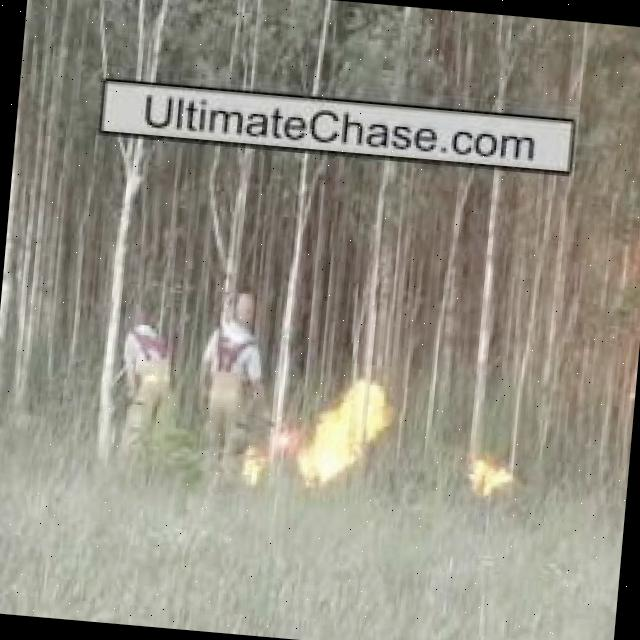fire: (293, 372, 396, 489), (232, 429, 293, 494), (465, 454, 512, 504)
